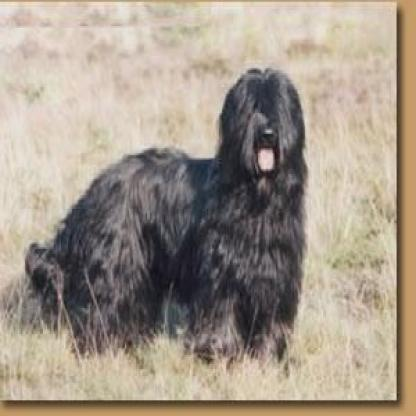briard: (22, 63, 309, 359)
